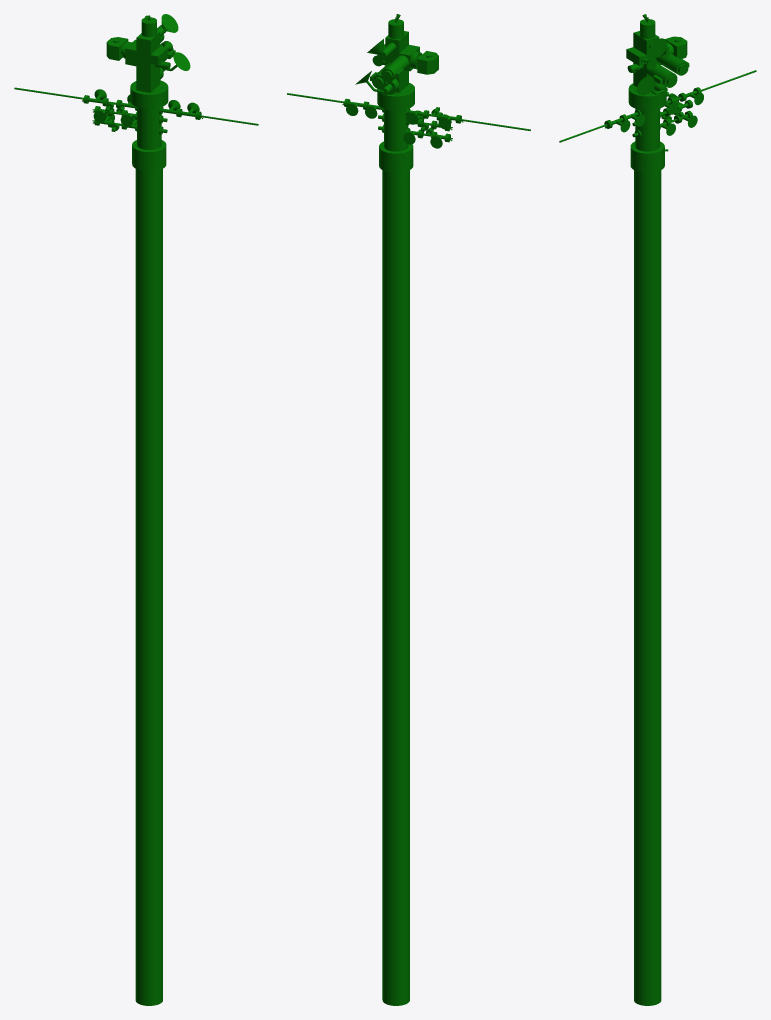
The model's file is Image-1710907574818-2280305583504_WELLHEAD-A4.fbx.
3 views of the same model, side by side, from view 1: azimuth 30°, elevation 25°; view 2: azimuth 210°, elevation 25°; view 3: azimuth 270°, elevation 25° (orthographic).
Parts seen in each view (by area): view 1: CYLINDER 1 of SUBEQUIPMENT /WELLHEAD-A4/PRIM, BOX 1 of SUBEQUIPMENT /WELLHEAD-A4/XTREE, CYLINDER 3 of SUBEQUIPMENT /WELLHEAD-A4/PRIM, CYLINDER 2 of SUBEQUIPMENT /WELLHEAD-A4/PRIM, CYLINDER 4 of SUBEQUIPMENT /WELLHEAD-A4/PRIM; view 2: CYLINDER 1 of SUBEQUIPMENT /WELLHEAD-A4/PRIM, CYLINDER 3 of SUBEQUIPMENT /WELLHEAD-A4/PRIM, CYLINDER 2 of SUBEQUIPMENT /WELLHEAD-A4/PRIM, CYLINDER 4 of SUBEQUIPMENT /WELLHEAD-A4/PRIM, BOX 1 of SUBEQUIPMENT /WELLHEAD-A4/XTREE; view 3: CYLINDER 1 of SUBEQUIPMENT /WELLHEAD-A4/PRIM, CYLINDER 3 of SUBEQUIPMENT /WELLHEAD-A4/PRIM, CYLINDER 2 of SUBEQUIPMENT /WELLHEAD-A4/PRIM, CYLINDER 4 of SUBEQUIPMENT /WELLHEAD-A4/PRIM, BOX 1 of SUBEQUIPMENT /WELLHEAD-A4/XTREE.
Boxes of the visible parts, x1,y1,x2,y2 form: CYLINDER 1 of SUBEQUIPMENT /WELLHEAD-A4/PRIM: [135, 169, 162, 1005]; BOX 1 of SUBEQUIPMENT /WELLHEAD-A4/XTREE: [136, 31, 160, 92]; CYLINDER 3 of SUBEQUIPMENT /WELLHEAD-A4/PRIM: [137, 107, 161, 149]; CYLINDER 2 of SUBEQUIPMENT /WELLHEAD-A4/PRIM: [132, 140, 166, 171]; CYLINDER 4 of SUBEQUIPMENT /WELLHEAD-A4/PRIM: [130, 80, 168, 108]; CYLINDER 1 of SUBEQUIPMENT /WELLHEAD-A4/PRIM: [382, 170, 409, 1005]; CYLINDER 3 of SUBEQUIPMENT /WELLHEAD-A4/PRIM: [384, 109, 408, 151]; CYLINDER 2 of SUBEQUIPMENT /WELLHEAD-A4/PRIM: [379, 141, 413, 172]; CYLINDER 4 of SUBEQUIPMENT /WELLHEAD-A4/PRIM: [377, 83, 414, 110]; BOX 1 of SUBEQUIPMENT /WELLHEAD-A4/XTREE: [385, 31, 408, 92]; CYLINDER 1 of SUBEQUIPMENT /WELLHEAD-A4/PRIM: [634, 170, 661, 1005]; CYLINDER 3 of SUBEQUIPMENT /WELLHEAD-A4/PRIM: [635, 108, 659, 151]; CYLINDER 2 of SUBEQUIPMENT /WELLHEAD-A4/PRIM: [630, 141, 664, 172]; CYLINDER 4 of SUBEQUIPMENT /WELLHEAD-A4/PRIM: [628, 83, 666, 110]; BOX 1 of SUBEQUIPMENT /WELLHEAD-A4/XTREE: [633, 31, 659, 86].
Size of the model in its own units: 4.68 by 5.46 by 30.05.
